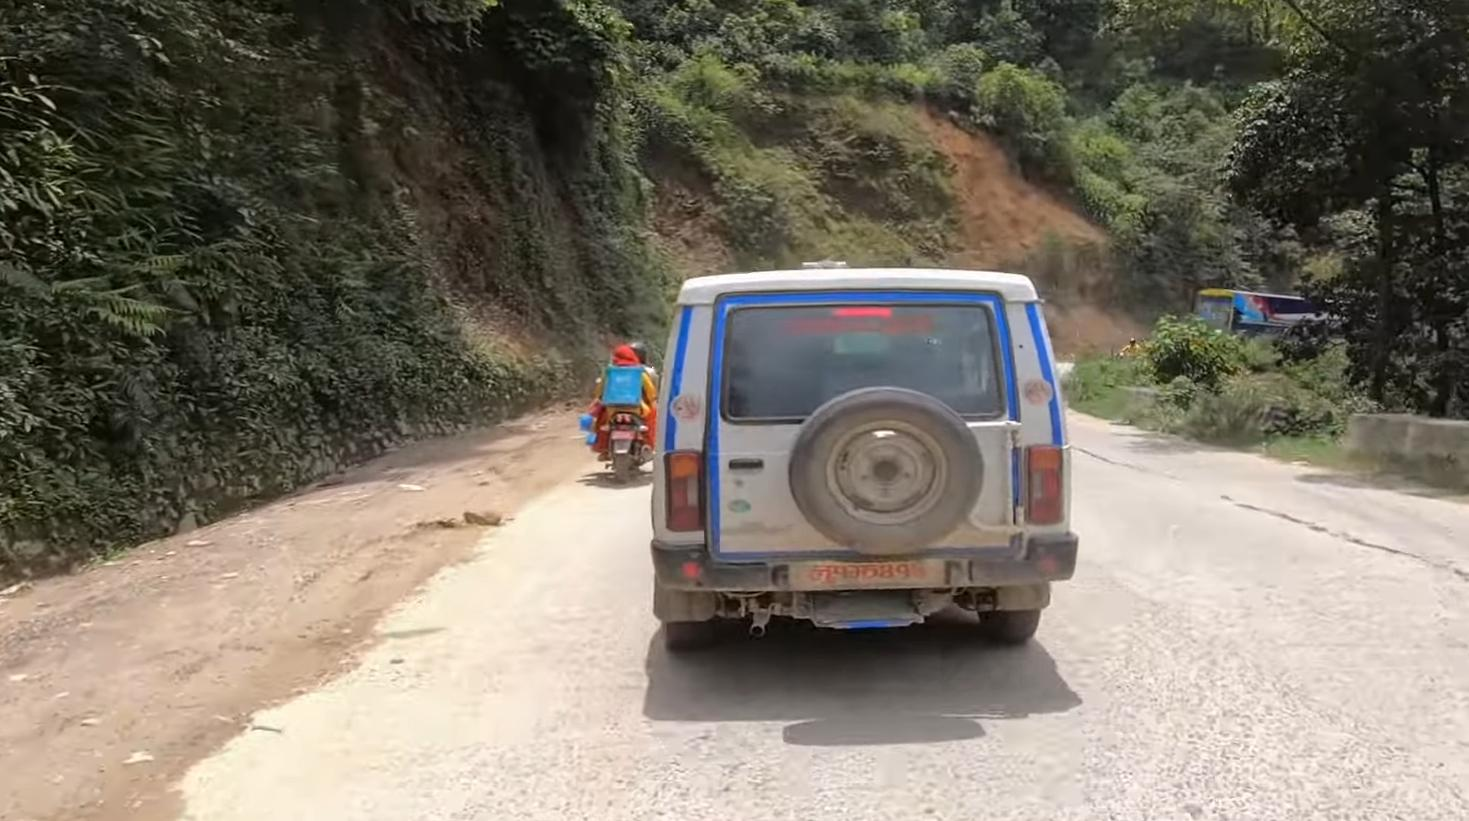ambulance: (637, 255, 1075, 659)
